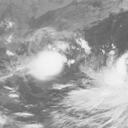cyclone: (28, 49, 67, 82)
